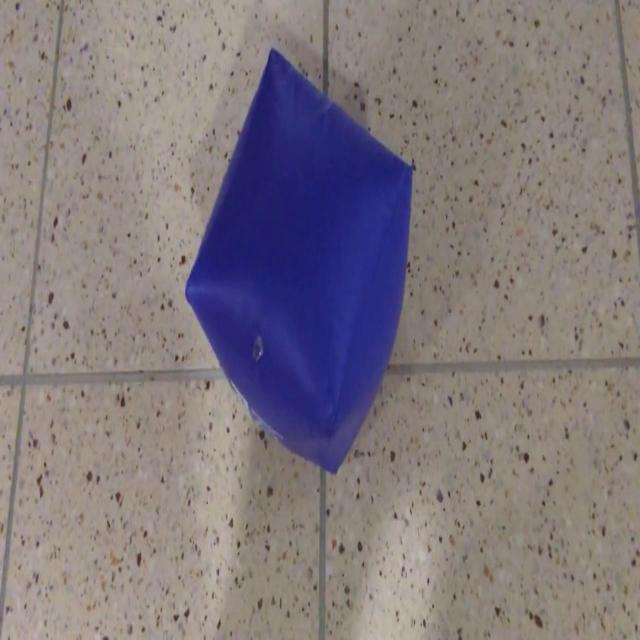frc_cube: (182, 43, 410, 473)
